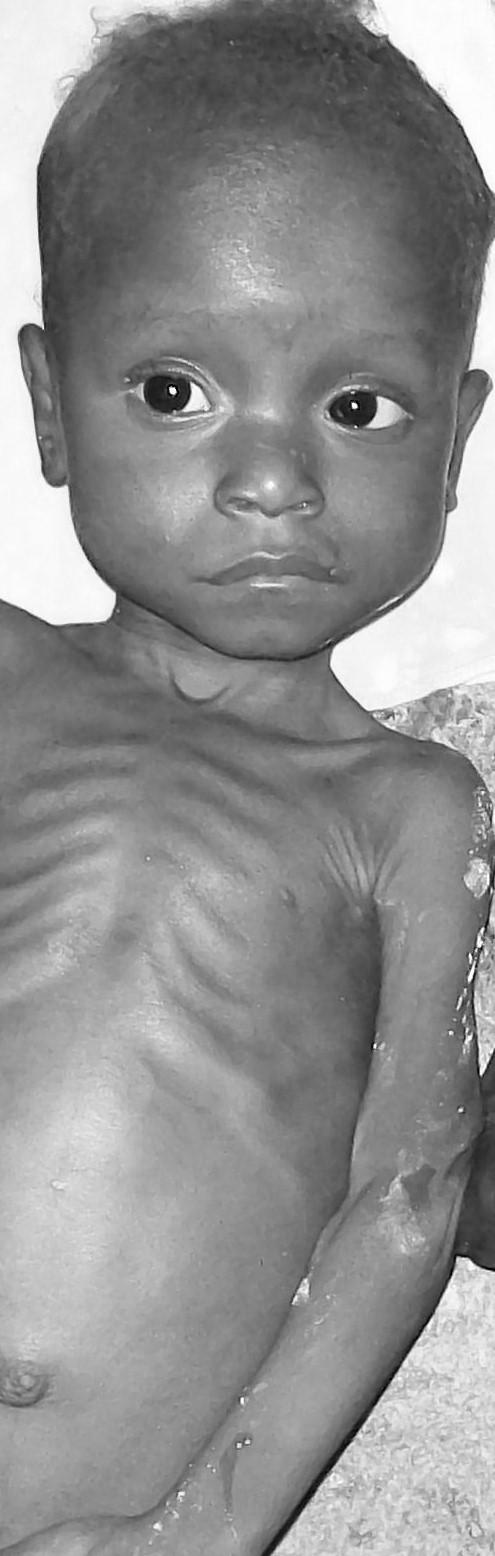Stunting: (0, 0, 495, 700)
